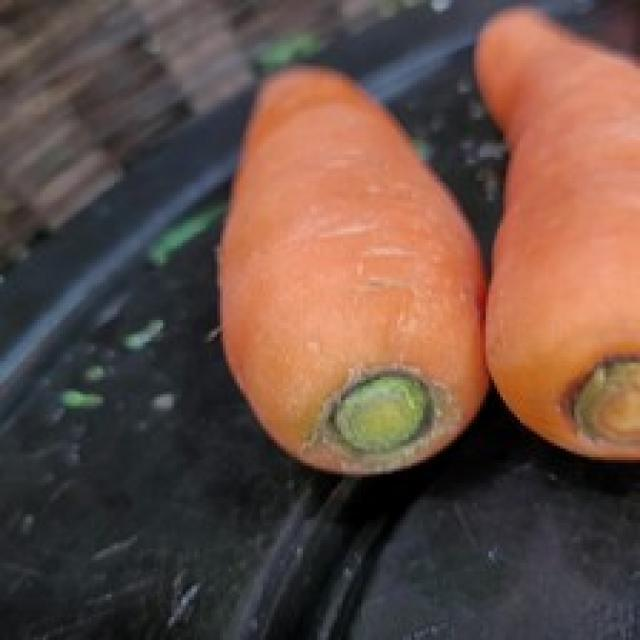carrot: (217, 64, 486, 478), (469, 7, 640, 474)
